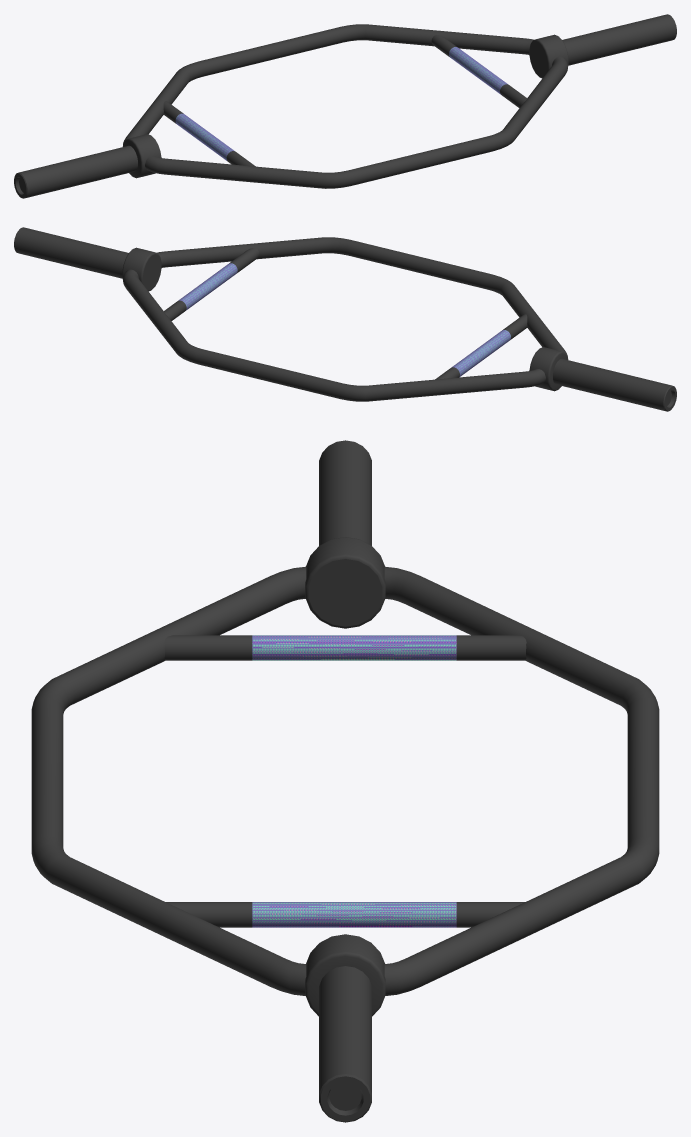
File: Barbell_Bar_5.FBX
3 views of the same model, one above another, from view 1: azimuth 30°, elevation 25°; view 2: azimuth 150°, elevation 25°; view 3: azimuth 270°, elevation 25° (orthographic). The views are drawn at different scales.
Parts seen in each view (by area): view 1: Barbell_Bar_5; view 2: Barbell_Bar_5; view 3: Barbell_Bar_5.
Part boxes in pixels (<box>): Barbell_Bar_5: <box>14,14,676,198</box>; Barbell_Bar_5: <box>14,227,676,411</box>; Barbell_Bar_5: <box>31,440,659,1122</box>.
Size of the model in its own units: 1.41 by 0.5887 by 0.0766.
